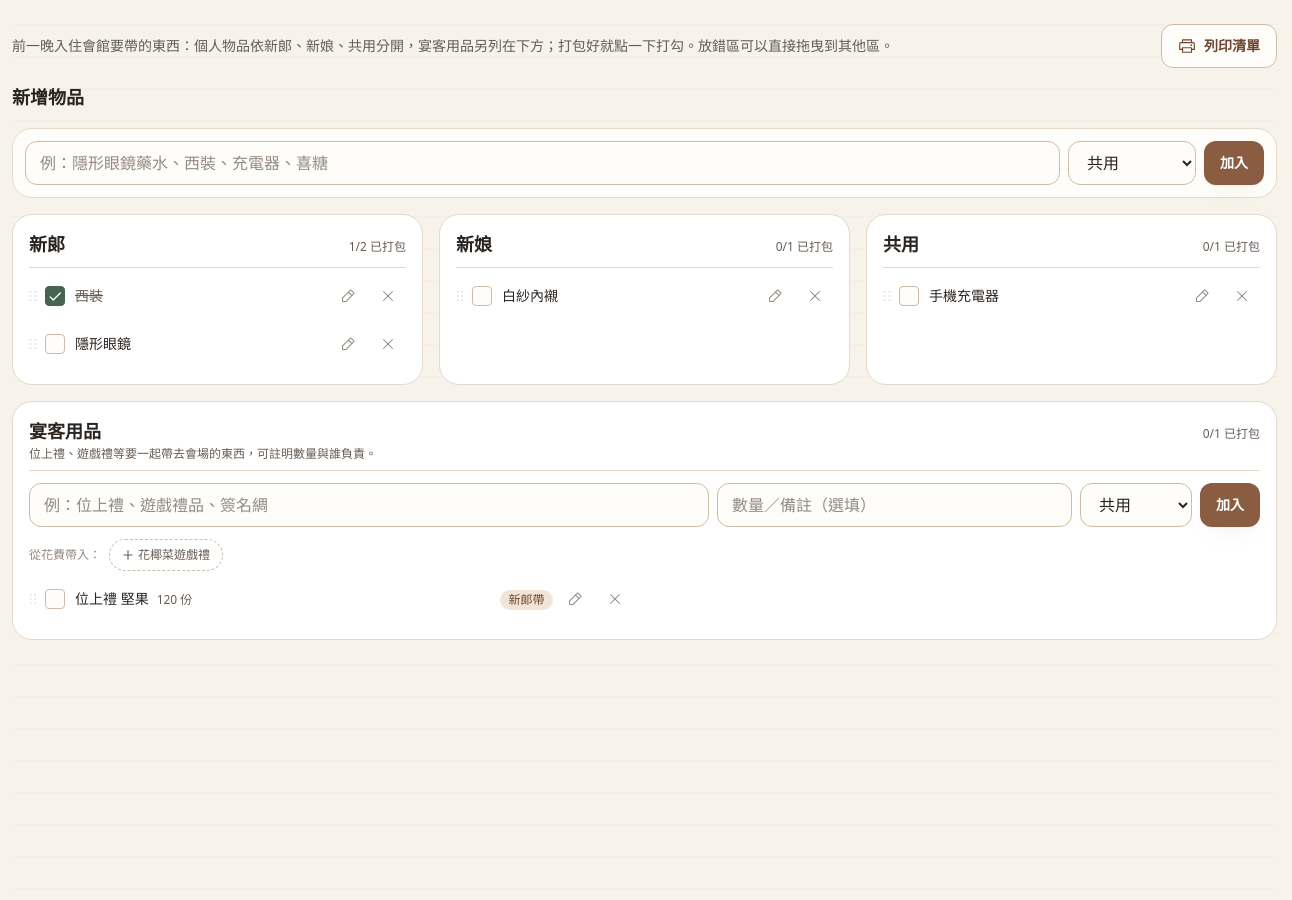
PackingList › lists wedding supplies separately with note, owner and budget shortcuts
This screenshot has width=1292, height=900.
Expected: the element "宴客用品" shows "位上禮 堅果", x1=45 y1=581 x2=552 y2=617
Expected: the element "宴客用品" shows "120 份", x1=45 y1=581 x2=552 y2=617
Step 1. Click the button named "編輯：位上禮 堅果" → (574,599), box x1=556 y1=581 x2=592 y2=617
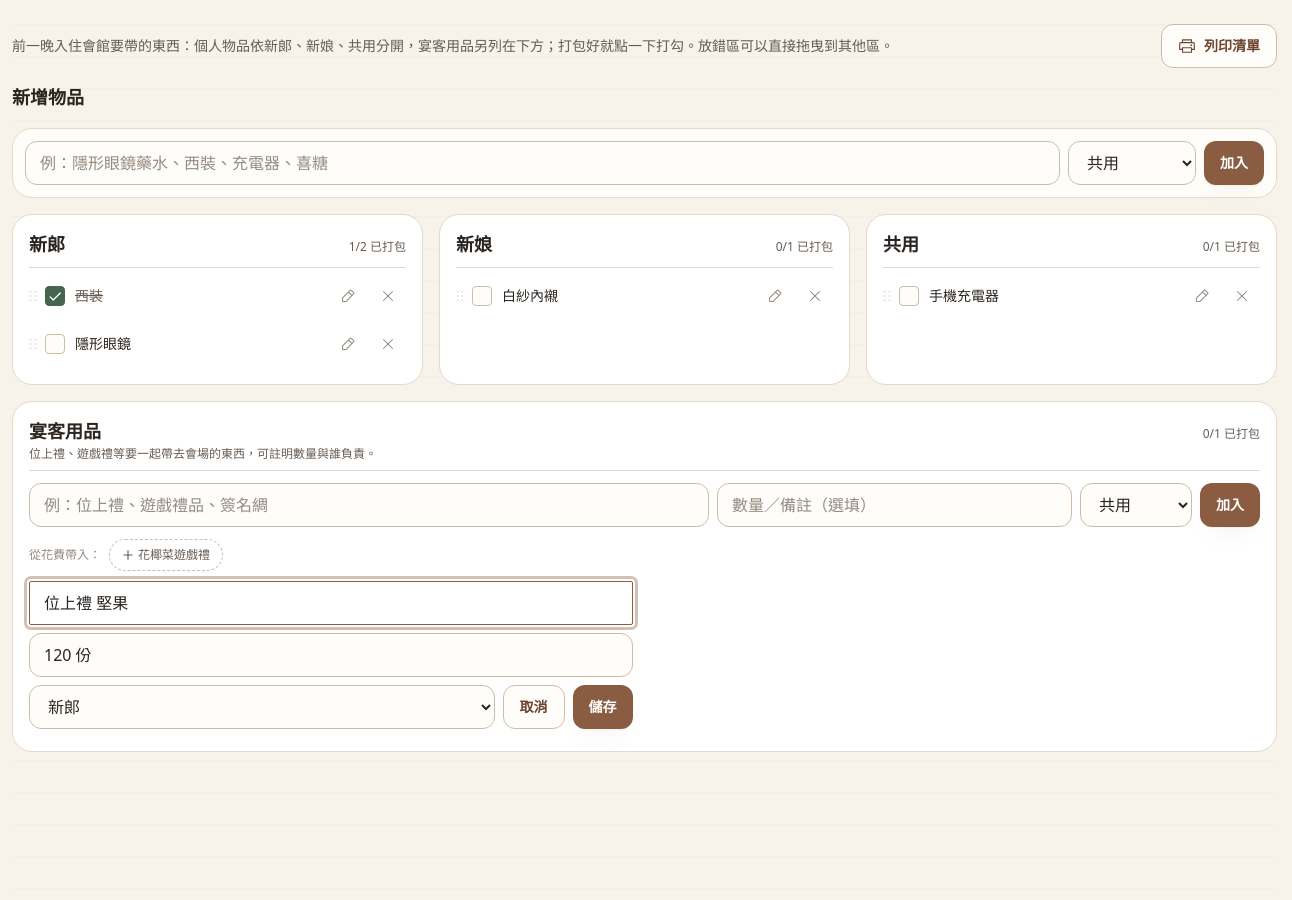
Now the 2nd field named "編輯數量／備註" holds "120 份", box x1=29 y1=633 x2=632 y2=677
